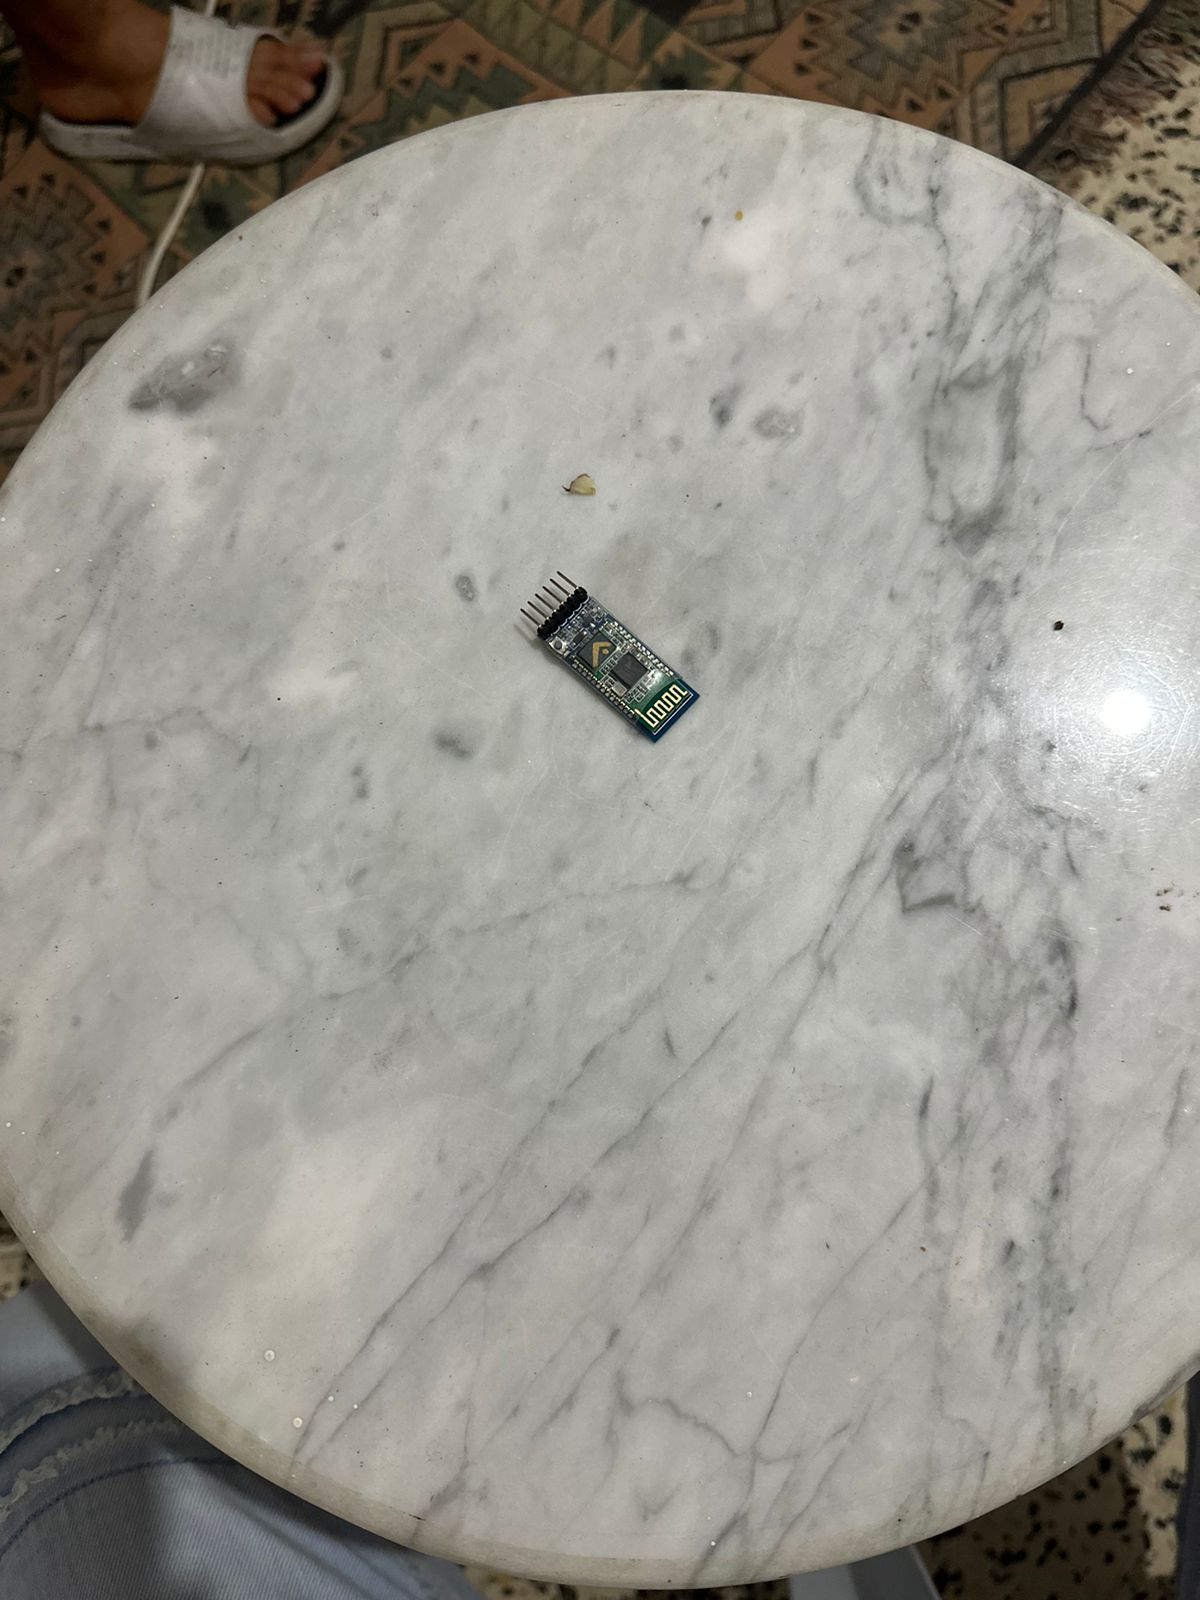module-bluetooth: (507, 551, 705, 742)
